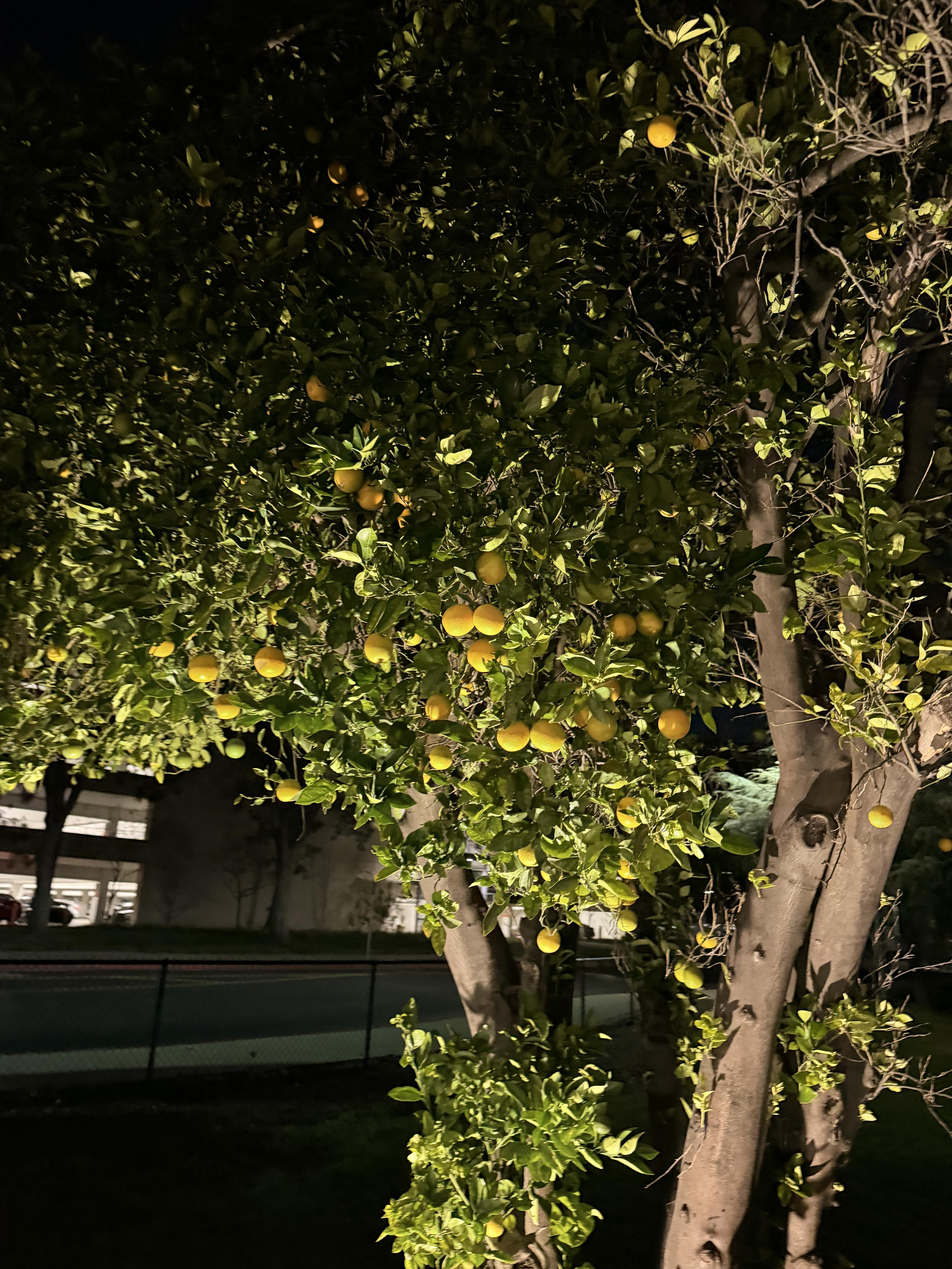orange: (530, 720, 567, 752), (657, 708, 691, 740), (442, 604, 474, 637), (476, 551, 507, 585), (254, 646, 286, 678), (467, 638, 496, 673), (497, 722, 530, 752), (647, 115, 676, 148), (474, 605, 504, 636), (364, 633, 393, 664), (616, 797, 644, 829), (187, 655, 218, 683), (585, 717, 617, 742), (334, 468, 365, 493), (356, 483, 384, 510), (424, 694, 451, 721), (636, 610, 664, 636), (305, 375, 331, 402), (608, 614, 636, 639), (213, 695, 241, 719), (111, 411, 134, 439), (868, 804, 893, 829), (275, 779, 302, 802), (537, 929, 560, 954), (429, 745, 452, 770), (178, 283, 200, 307), (347, 183, 369, 207), (616, 909, 638, 932), (684, 965, 704, 989), (225, 737, 246, 759), (328, 160, 347, 184), (692, 430, 714, 450), (517, 845, 537, 867), (45, 644, 67, 663), (696, 931, 718, 949), (674, 961, 692, 982), (304, 125, 322, 145), (619, 859, 637, 879), (305, 215, 324, 233), (0, 545, 20, 560), (938, 837, 952, 853)
